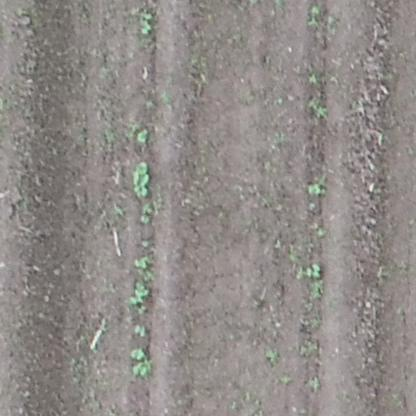vc: (131, 158, 149, 199), (127, 285, 149, 305), (137, 10, 152, 36), (306, 179, 324, 196), (304, 262, 321, 279), (127, 346, 146, 361), (131, 364, 151, 377), (133, 256, 151, 269), (134, 324, 150, 336), (136, 128, 149, 142)
